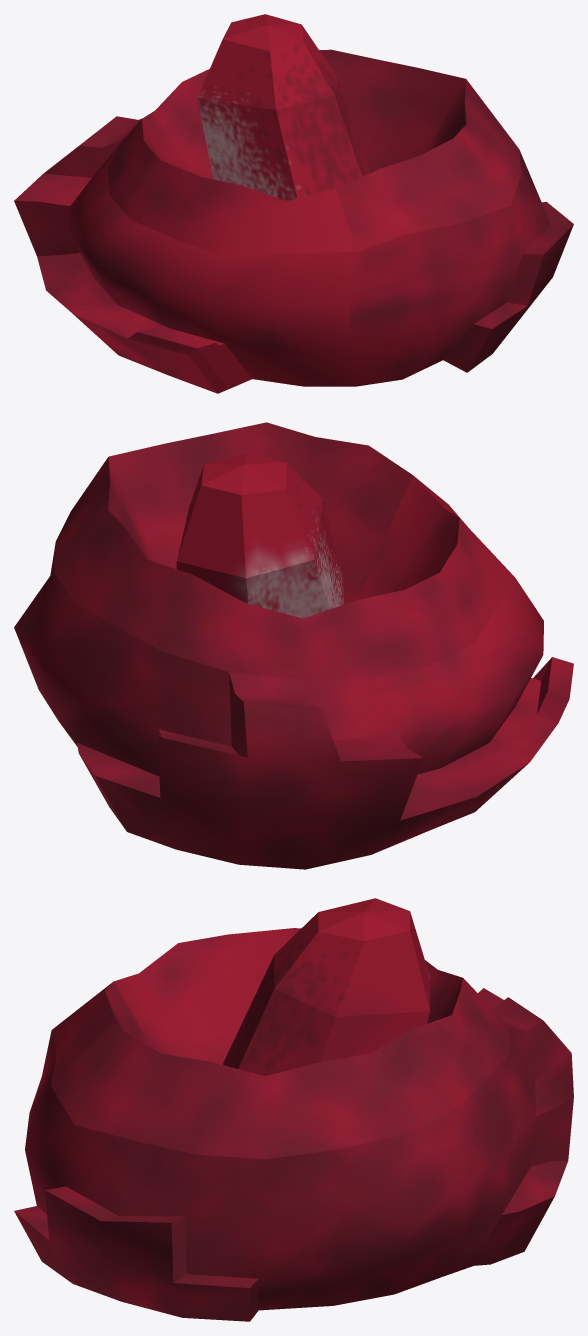
The model's file is Plant_Four.fbx.
3 renders of one model, top to bottom at view 1: azimuth 30°, elevation 25°; view 2: azimuth 150°, elevation 25°; view 3: azimuth 270°, elevation 25°, orthographic. The views are drawn at different scales.
Visible parts, largest first — view 1: polySurface8; view 2: polySurface8; view 3: polySurface8.
Boxes of the visible parts, x1,y1,x2,y2 form: polySurface8: (14,14,573,393); polySurface8: (14,422,573,869); polySurface8: (14,898,573,1321).
Bounding box in the file's own units: 3.06 × 2 × 2.91.
Materials: 1 (1 with a texture image).
